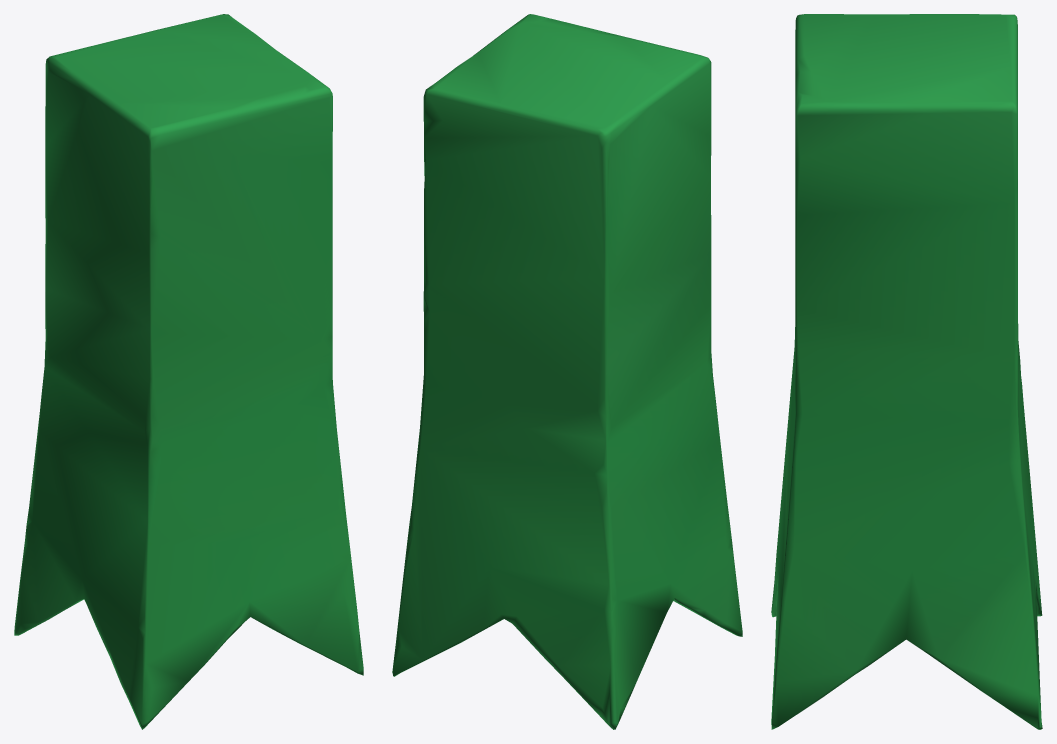
File: gen3d-ribbon-lod1.glb
3 renders of one model, left to right at view 1: azimuth 30°, elevation 25°; view 2: azimuth 150°, elevation 25°; view 3: azimuth 270°, elevation 25°, orthographic. The views are drawn at different scales.
Visible parts, largest first — view 1: part_0; view 2: part_0; view 3: part_0.
Boxes of the visible parts, left/top/right/bottom form: part_0: left=14, top=14, right=363, bottom=729; part_0: left=392, top=14, right=742, bottom=729; part_0: left=771, top=14, right=1042, bottom=729.
Bounding box in the file's own units: 0.3991 × 1 × 0.3996.
